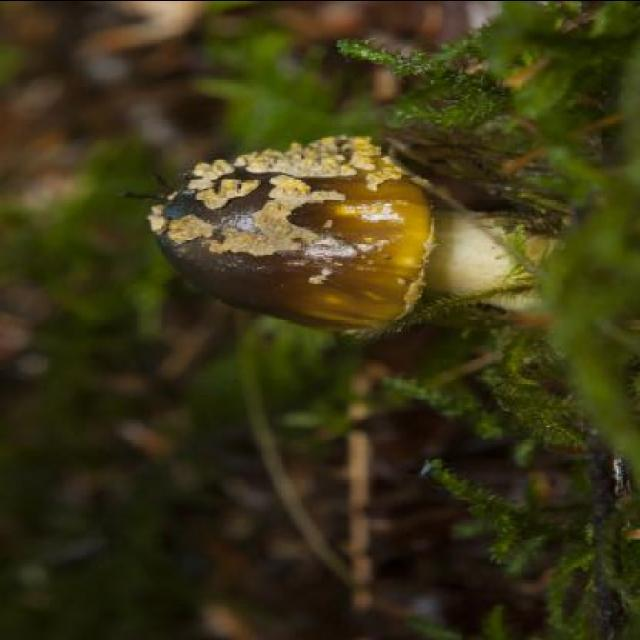Mushroom: (140, 134, 554, 334)
